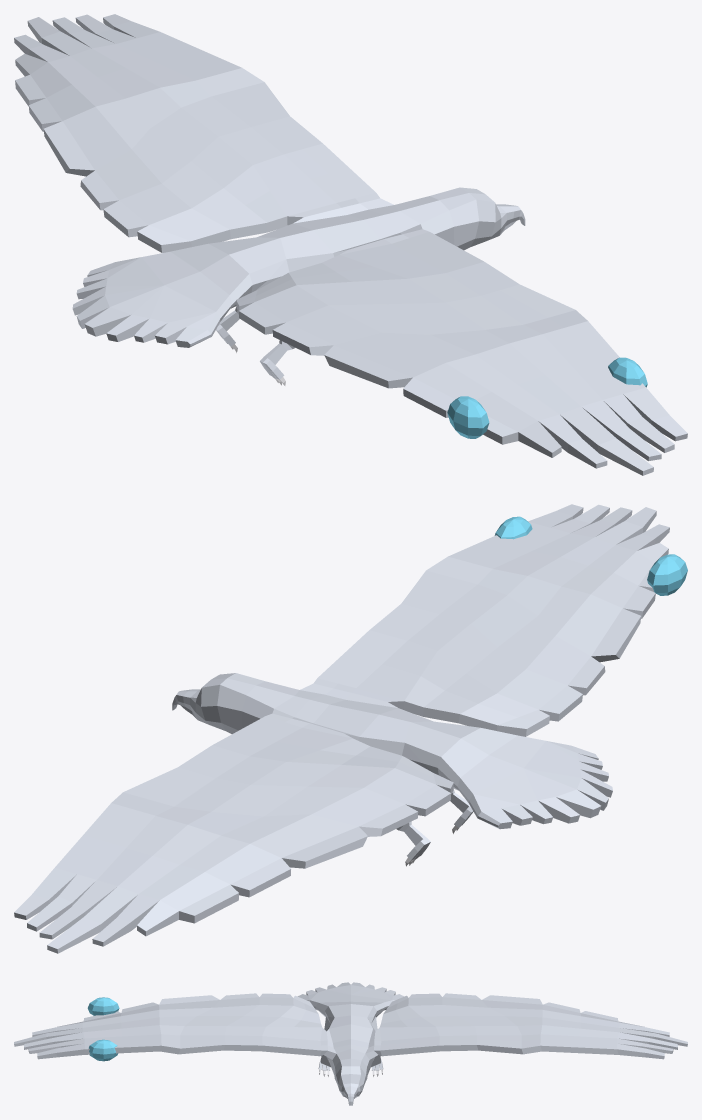
The model's file is GaleHawk.fbx.
3 renders of one model, top to bottom at view 1: azimuth 30°, elevation 25°; view 2: azimuth 150°, elevation 25°; view 3: azimuth 270°, elevation 25°, orthographic. The views are drawn at different scales.
Parts seen in each view (by area): view 1: Body, Head, WingL, WingR, Glow_82e1ff; view 2: Body, Head, WingL, WingR, Glow_82e1ff; view 3: Body, Head, WingL, WingR, Glow_82e1ff.
Part boxes in pixels (x1,y1,x2,y2): Body: (14, 14, 519, 385); Head: (324, 284, 687, 475); WingL: (72, 237, 286, 347); WingR: (369, 187, 525, 250); Glow_82e1ff: (447, 357, 647, 438); Body: (14, 595, 619, 953); Head: (401, 504, 669, 658); WingL: (405, 721, 612, 829); WingR: (172, 673, 324, 733); Glow_82e1ff: (494, 516, 687, 595); Body: (185, 993, 687, 1076); Head: (14, 995, 226, 1059); WingL: (298, 982, 403, 1022); WingR: (324, 1044, 377, 1105); Glow_82e1ff: (87, 997, 119, 1061).
Size of the model in its own units: 1.49 by 0.4465 by 3.6.
2 materials, 1 textured.
